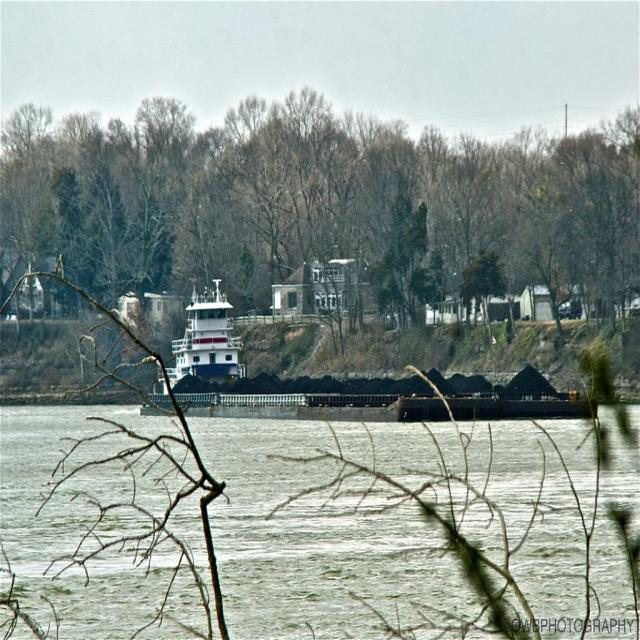Boat: (168, 272, 249, 386)
